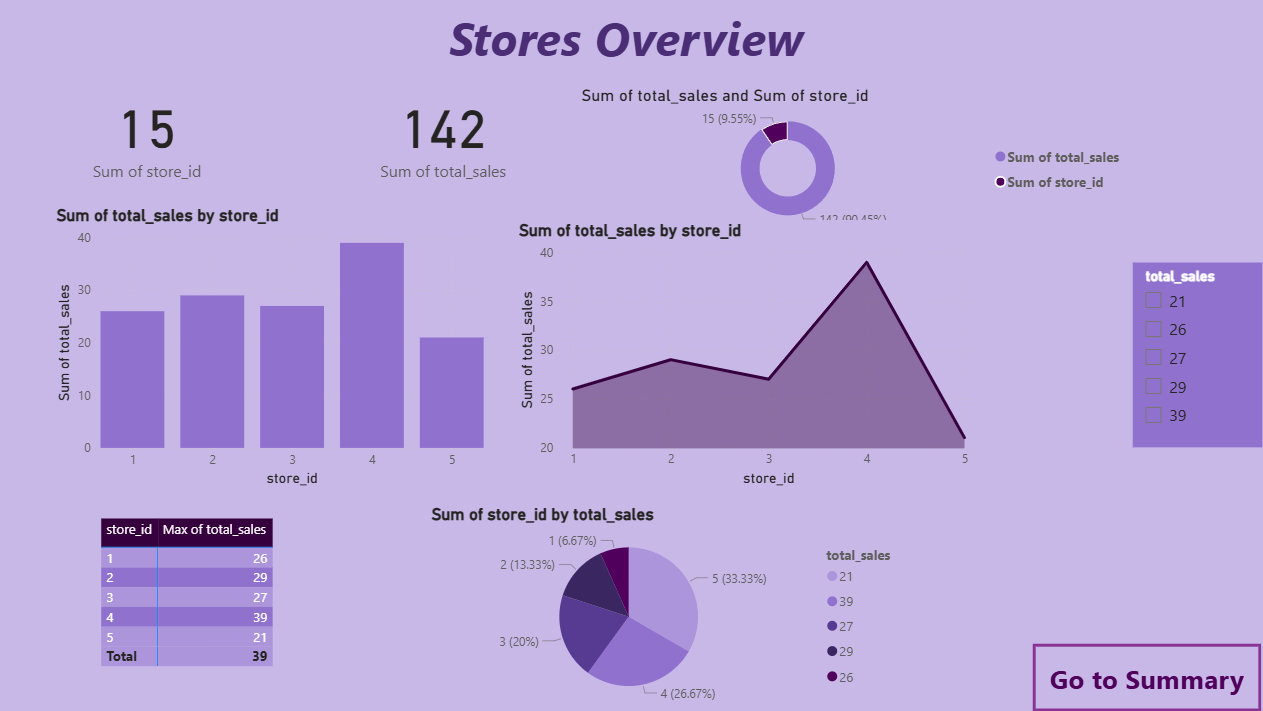

This screenshot's page, from the dashboard's own definition file:
{"tool":"powerbi","page":{"name":"Page 4","canvas":[1280,720],"ordinal":3},"visuals":[{"type":"textbox","box":[370,0,531.4,85.7],"z":0},{"type":"lineStackedColumnComboChart","fields":{"Y":["Sum(gold_stores.total_sales)"],"Category":["gold_stores.store_id"]},"box":[52.9,207.1,442.9,290],"z":1000},{"type":"card","fields":{"Values":["Sum(gold_stores.total_sales)"]},"box":[300,60,300,150],"z":2000},{"type":"card","fields":{"Values":["Sum(gold_stores.store_id)"]},"box":[0,60,300,150],"z":3000},{"type":"donutChart","fields":{"Y":["Sum(gold_stores.total_sales)","Sum(gold_stores.store_id)"]},"box":[584.3,85.7,564.3,150],"z":4000},{"type":"pieChart","fields":{"Y":["Sum(gold_stores.store_id)"],"Category":["gold_stores.total_sales"]},"box":[432.9,510,492.9,210],"z":5000},{"type":"pivotTable","fields":{"Rows":["gold_stores.store_id"],"Values":["Max(gold_stores.total_sales)"]},"box":[98.6,520,314.3,200],"z":6000},{"type":"stackedAreaChart","fields":{"Y":["Sum(gold_stores.total_sales)"],"Category":["gold_stores.store_id"]},"box":[521.4,222.9,471.4,274.3],"z":7000},{"type":"actionButton","box":[1047.1,651.4,231.4,68.6],"z":8000},{"type":"slicer","fields":{"Values":["gold_stores.total_sales"]},"box":[1148.6,265.7,131.4,187.1],"z":9000}]}

Visuals, with their boxes in screenshot pixels (x1, y1, x2, y2), scaled from the page's 1280x720 canvas onto the 1263x711 screenshot:
textbox: l=365, t=0, r=889, b=85
lineStackedColumnComboChart - Sum(gold_stores.total_sales) x gold_stores.store_id: l=52, t=205, r=489, b=491
card - Sum(gold_stores.total_sales): l=296, t=59, r=592, b=207
card - Sum(gold_stores.store_id): l=0, t=59, r=296, b=207
donutChart - Sum(gold_stores.total_sales) x Sum(gold_stores.store_id): l=577, t=85, r=1133, b=233
pieChart - Sum(gold_stores.store_id) x gold_stores.total_sales: l=427, t=504, r=914, b=710
pivotTable - gold_stores.store_id x Max(gold_stores.total_sales): l=97, t=514, r=407, b=710
stackedAreaChart - Sum(gold_stores.total_sales) x gold_stores.store_id: l=514, t=220, r=980, b=491
actionButton: l=1033, t=643, r=1262, b=710
slicer - gold_stores.total_sales: l=1133, t=262, r=1262, b=447
